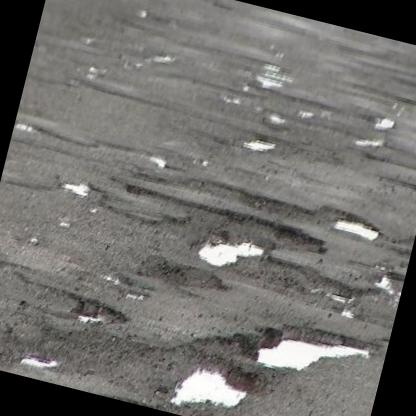pothole: (222, 302, 378, 393), (167, 348, 262, 416), (194, 224, 268, 278), (312, 200, 386, 245), (237, 186, 318, 226), (66, 290, 138, 333), (266, 223, 328, 264)
